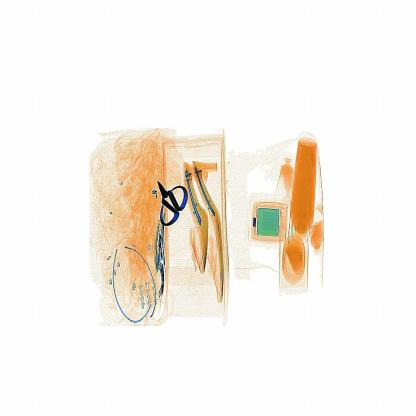gun: (153, 174, 194, 236)
